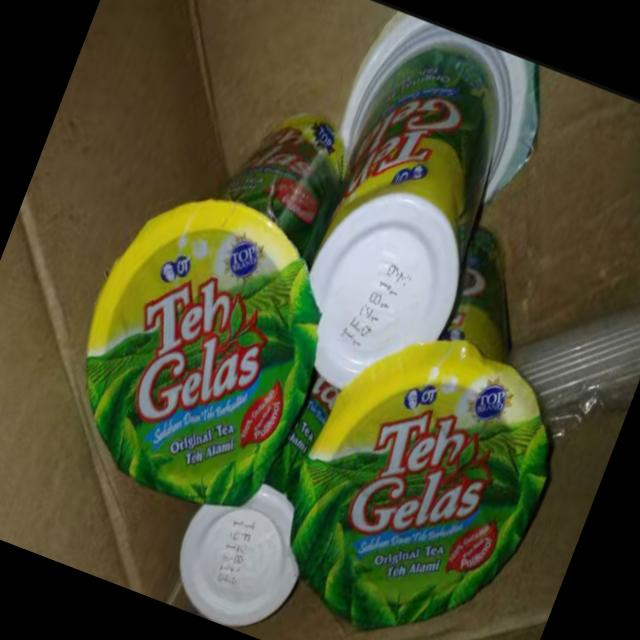GelasPlastik: (252, 186, 633, 640), (46, 53, 404, 535), (269, 30, 543, 420)
